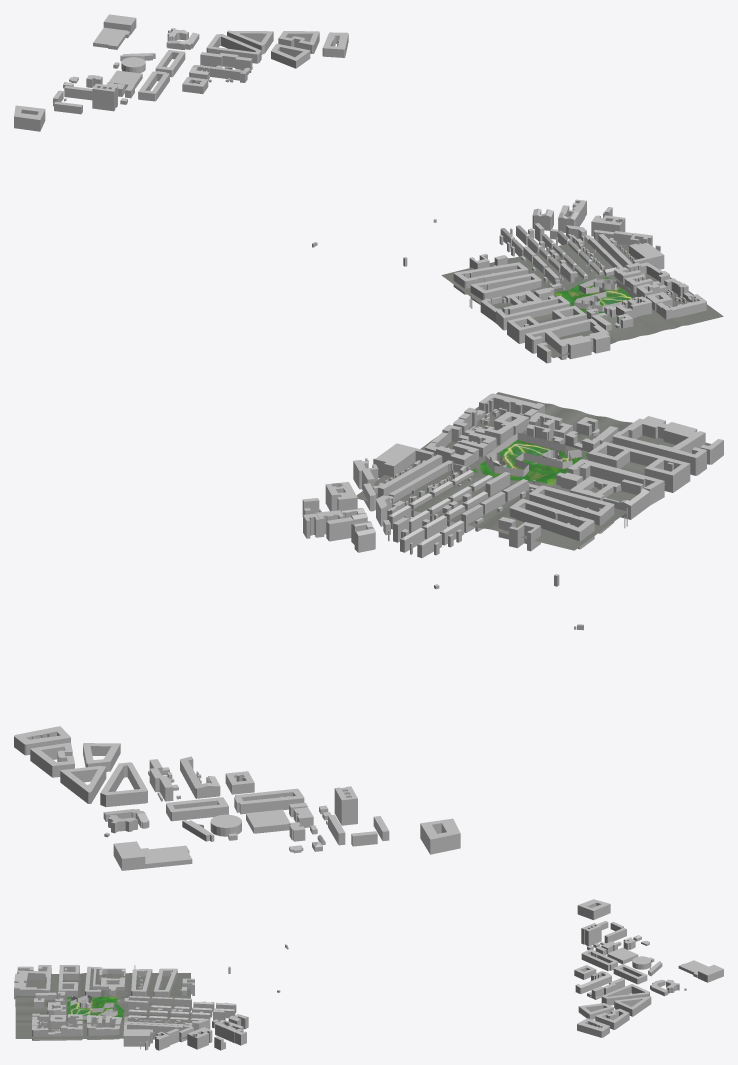
File: Park Map.fbx
3 views of the same model, one above another, from view 1: azimuth 30°, elevation 25°; view 2: azimuth 150°, elevation 25°; view 3: azimuth 270°, elevation 25° (orthographic). The views are drawn at different scales.
Visible parts, largest first — view 1: Contxt, Floor, Bounds; view 2: Contxt, Floor, Bounds; view 3: Contxt, Floor, Bounds.
Part boxes in pixels (x1,y1,x2,y2): Contxt: (14,14,706,363); Floor: (441,238,723,357); Bounds: (574,278,638,312); Contxt: (14,393,723,870); Floor: (356,392,710,550); Bounds: (485,433,581,476); Contxt: (14,899,723,1050); Floor: (15,973,190,1038); Bounds: (69,995,117,1019).
Bounding box in the file's own units: 91875 × 6268 × 200123.
